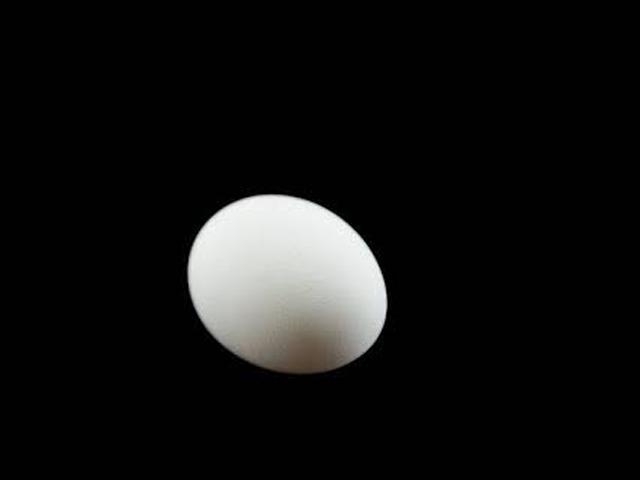egg: (188, 194, 388, 371)
